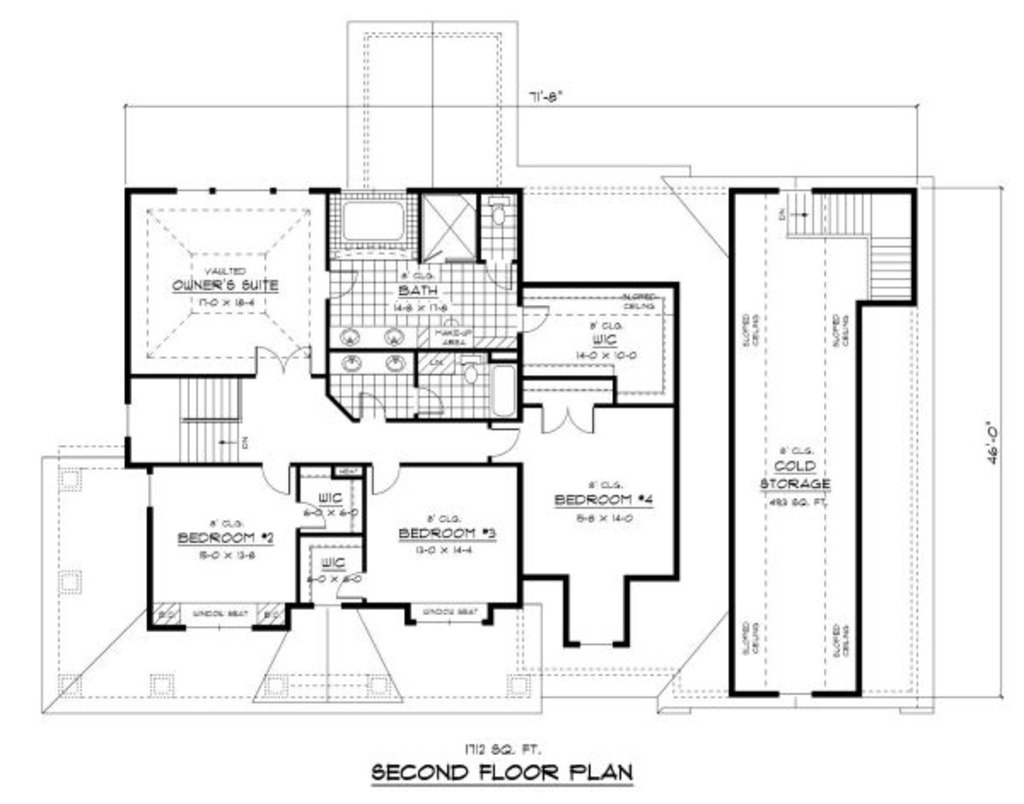door: (253, 344, 319, 375), (538, 403, 596, 434), (361, 458, 401, 495), (483, 424, 520, 464), (296, 499, 329, 536), (337, 566, 368, 601), (258, 459, 290, 492), (518, 305, 553, 333)
large_sink: (458, 351, 484, 388)
small_sink: (331, 319, 426, 349), (327, 357, 416, 375)
stairs: (776, 187, 920, 305), (126, 375, 254, 468)
tub: (328, 193, 415, 254), (484, 360, 517, 417)
windows: (167, 186, 314, 198), (408, 614, 491, 634), (189, 621, 256, 636), (572, 639, 615, 649)
